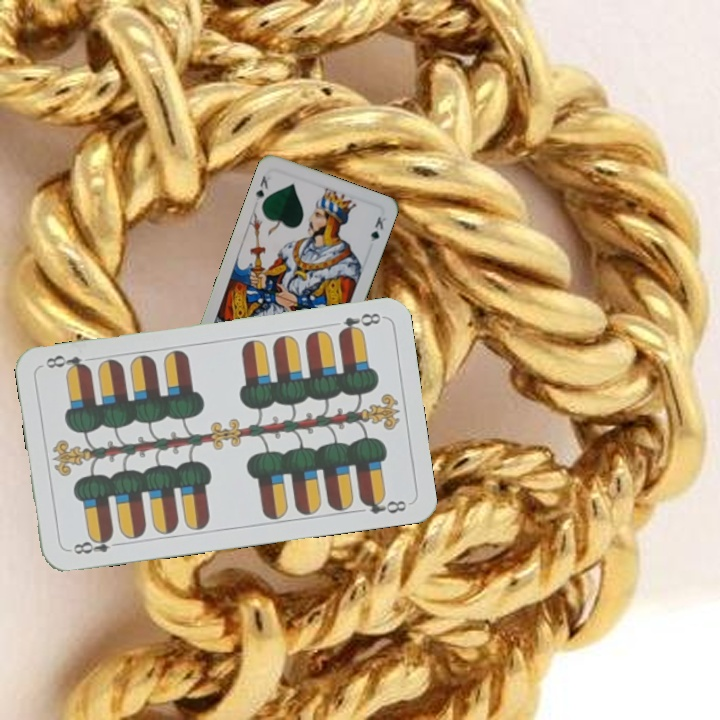E8: (65, 530, 124, 557), (334, 308, 383, 338)
GK: (251, 171, 275, 203)
